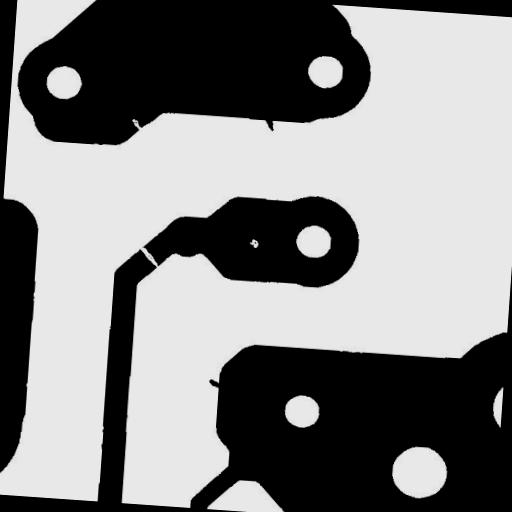mousebite: (124, 111, 152, 138)
open: (128, 236, 174, 282)
pin-hole: (241, 230, 267, 256)
spur: (252, 102, 282, 139), (200, 371, 230, 396)
